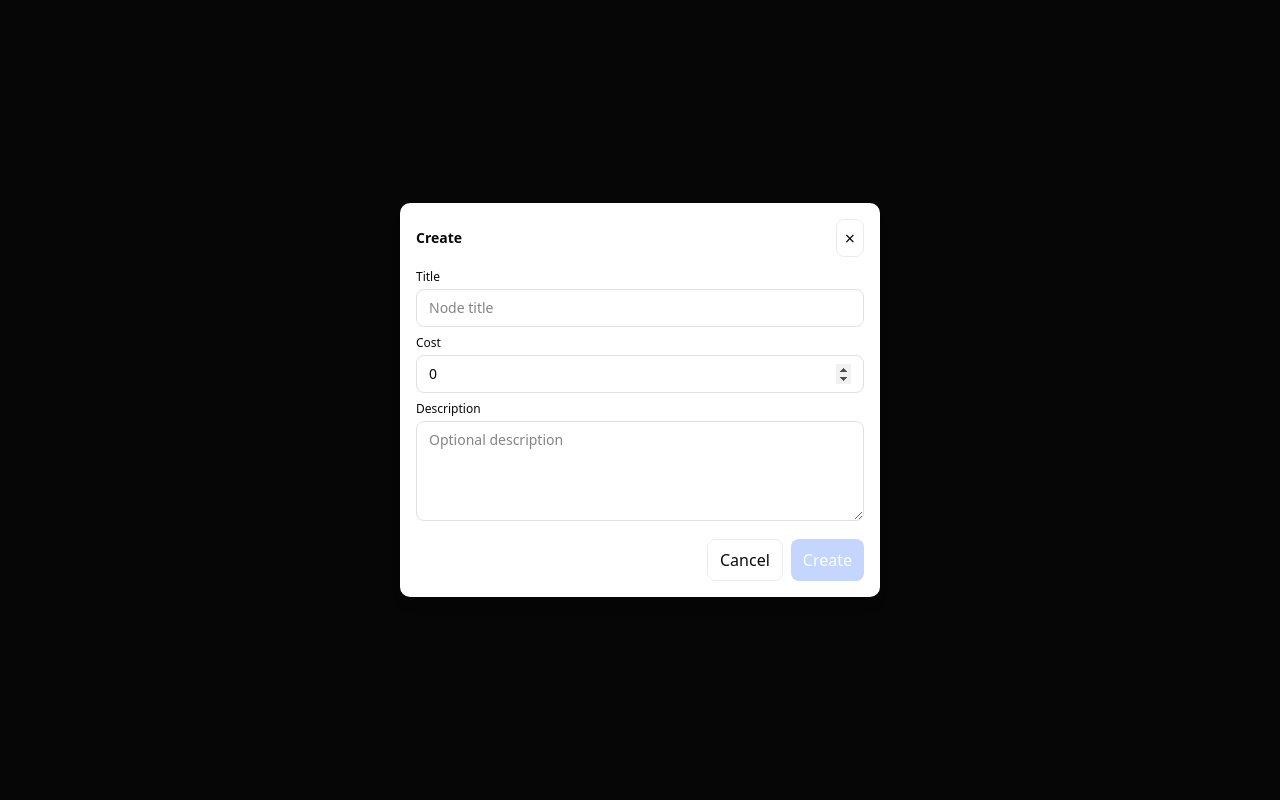
Test case: EditNodeModal › disables submit when title empty or cost is zero
Check: the button "Create" is disabled, box [791,539,864,581]
In the field with placeholder "Node title": (640, 308) [416,289,864,327], type "Name"
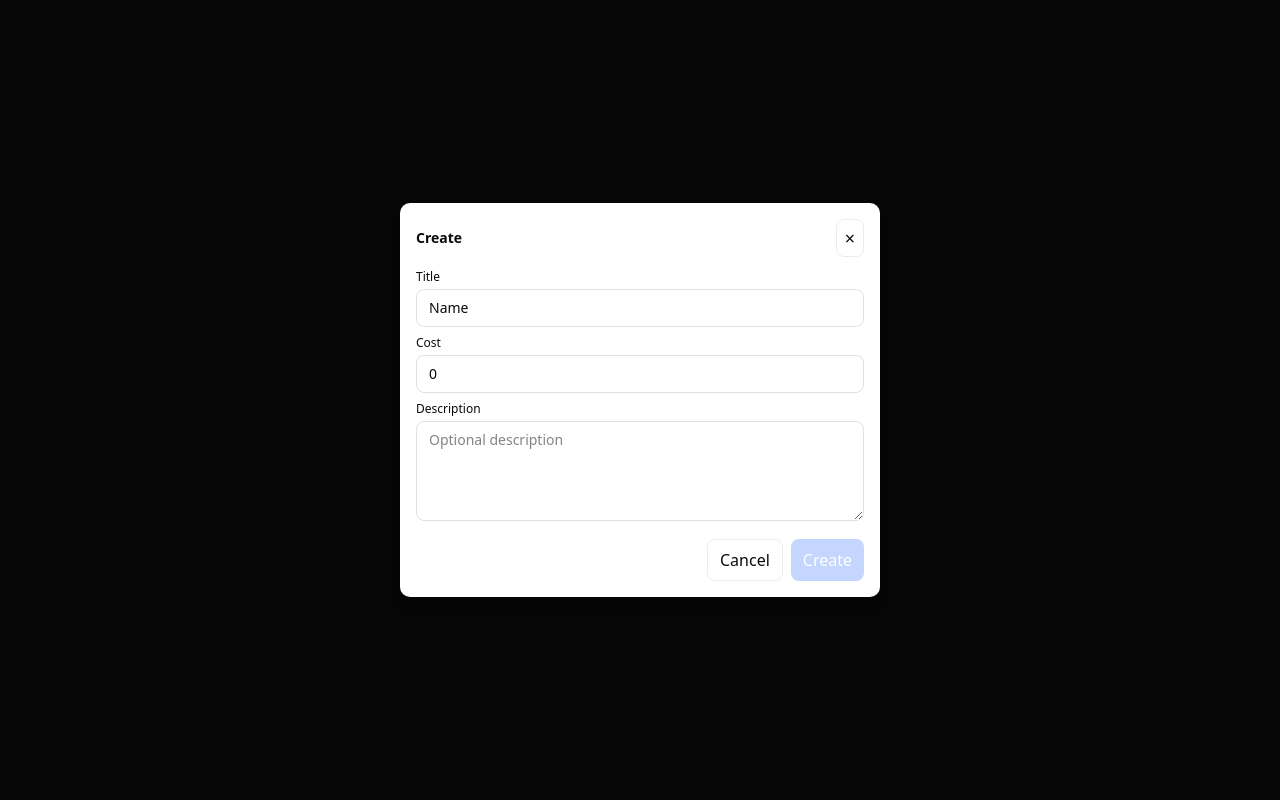
Check: the button "Create" is disabled, box [791,539,864,581]
In the number field with placeholder "Node cost": (640, 374) [416,355,864,393], type "2"
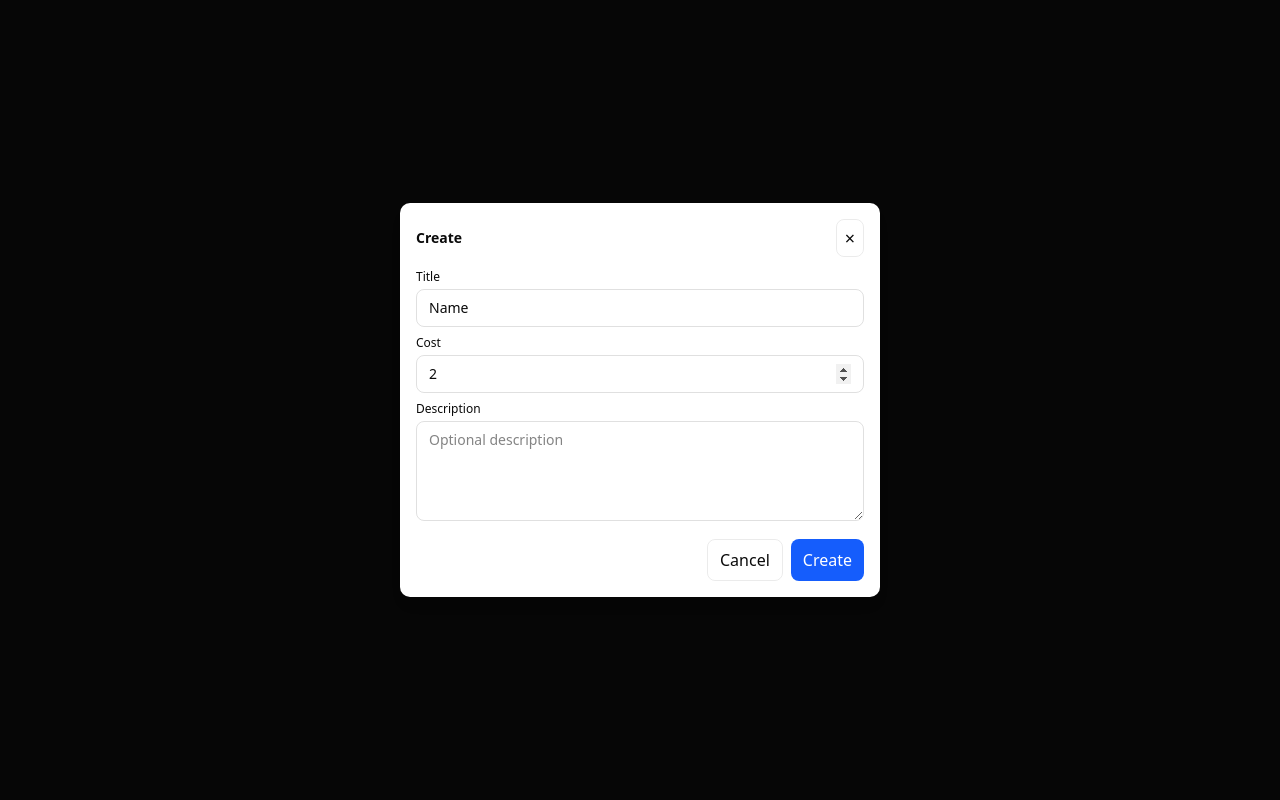
Check: the button "Create" is enabled, box [791,539,864,581]
